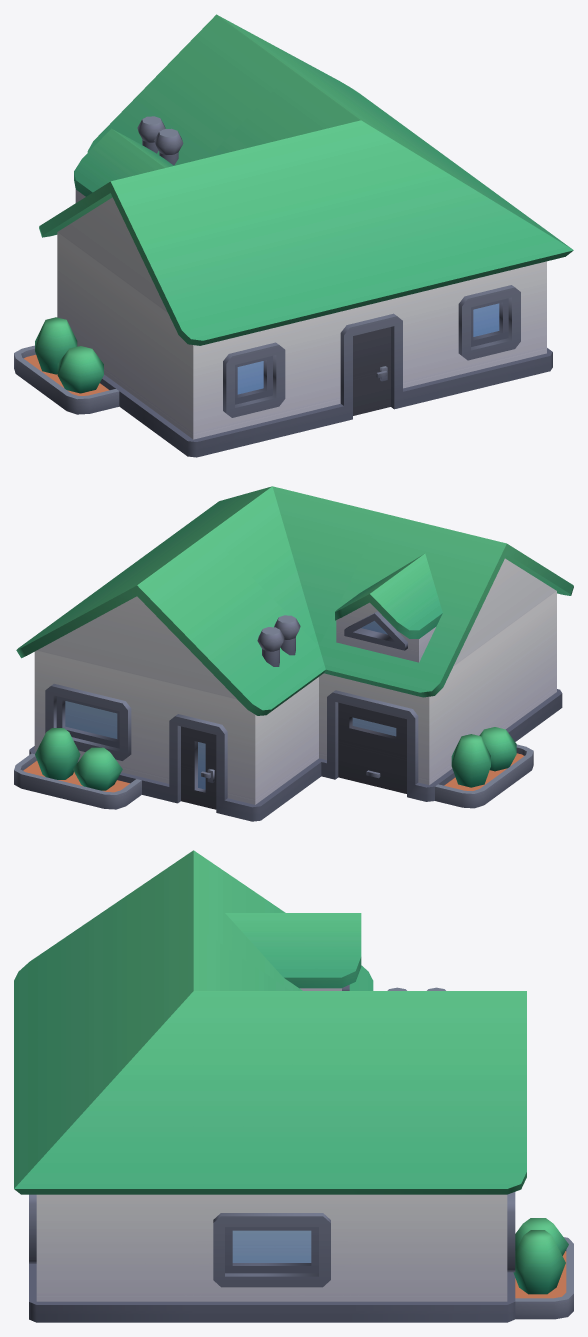
Rendered from house-m.glb.
3 renders of one model, top to bottom at view 1: azimuth 30°, elevation 25°; view 2: azimuth 150°, elevation 25°; view 3: azimuth 270°, elevation 25°, orthographic. The views are drawn at different scales.
Visible parts, largest first — view 1: building-type-m; view 2: building-type-m; view 3: building-type-m.
Part boxes in pixels (<box>): building-type-m: <box>14,14,573,457</box>; building-type-m: <box>14,486,573,821</box>; building-type-m: <box>14,850,573,1322</box>.
Bounding box in the file's own units: 1.43 × 0.7375 × 1.43.
Materials: 1 (1 with a texture image).
